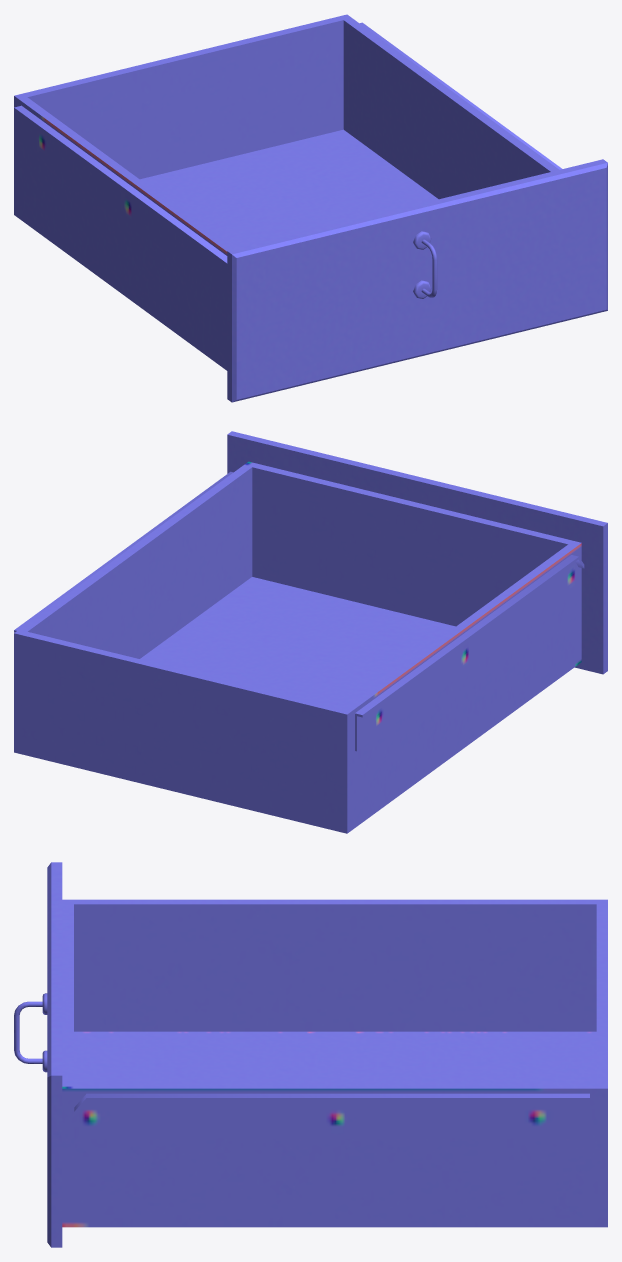
Rendered from SM_Locker_3_box.fbx.
The picture shows the model from 3 angles, top to bottom: view 1: azimuth 30°, elevation 25°; view 2: azimuth 150°, elevation 25°; view 3: azimuth 270°, elevation 25°; orthographic projection. The views are drawn at different scales.
Parts seen in each view (by area): view 1: SM_Locker_3_box; view 2: SM_Locker_3_box; view 3: SM_Locker_3_box.
Part boxes in pixels (box(x1,y1,x2,y2)): SM_Locker_3_box: box(14, 14, 607, 402); SM_Locker_3_box: box(14, 431, 607, 833); SM_Locker_3_box: box(14, 862, 607, 1247).
Bounding box in the file's own units: 44.02 × 16.56 × 51.78.
1 material, 1 textured.
